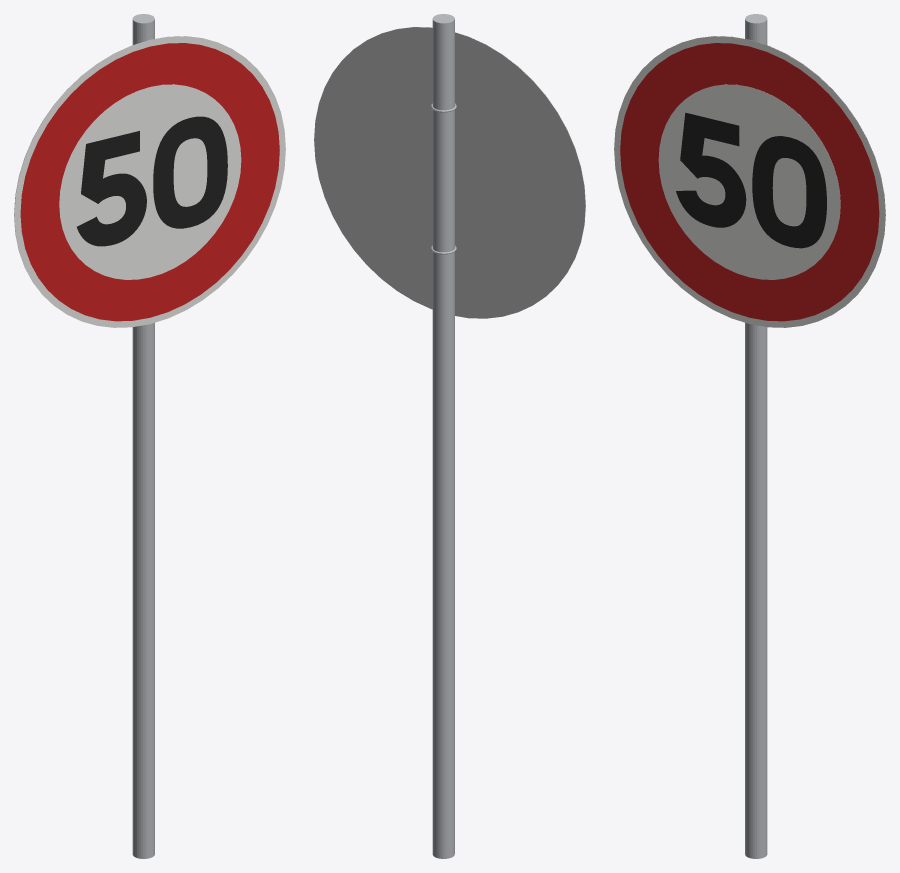
The model's file is poteau_B14-50.glb.
The picture shows the model from 3 angles, left to right: view 1: azimuth 30°, elevation 25°; view 2: azimuth 150°, elevation 25°; view 3: azimuth 330°, elevation 25°; orthographic projection.
Visible parts, largest first — view 1: B14-50_p01, B14-50_p02, poteau_B14-50_poteau, B14-50_p00, B14-50_p04, B14-50_p03; view 2: B14-50_dos, poteau_B14-50_poteau; view 3: B14-50_p01, B14-50_p02, poteau_B14-50_poteau, B14-50_p00, B14-50_p04, B14-50_p03.
Part boxes in pixels (left/top/right/bottom): B14-50_p01: left=20, top=43, right=279, bottom=321; B14-50_p02: left=59, top=84, right=241, bottom=279; poteau_B14-50_poteau: left=132, top=14, right=154, bottom=858; B14-50_p00: left=14, top=36, right=285, bottom=327; B14-50_p04: left=153, top=116, right=227, bottom=228; B14-50_p03: left=77, top=131, right=146, bottom=246; B14-50_dos: left=314, top=27, right=585, bottom=318; poteau_B14-50_poteau: left=432, top=14, right=454, bottom=858; B14-50_p01: left=620, top=43, right=879, bottom=321; B14-50_p02: left=658, top=84, right=840, bottom=279; poteau_B14-50_poteau: left=745, top=14, right=767, bottom=858; B14-50_p00: left=614, top=36, right=885, bottom=327; B14-50_p04: left=752, top=136, right=826, bottom=248; B14-50_p03: left=676, top=112, right=746, bottom=227.
Size of the model in its own units: 0.85 by 2.5 by 0.0716.
